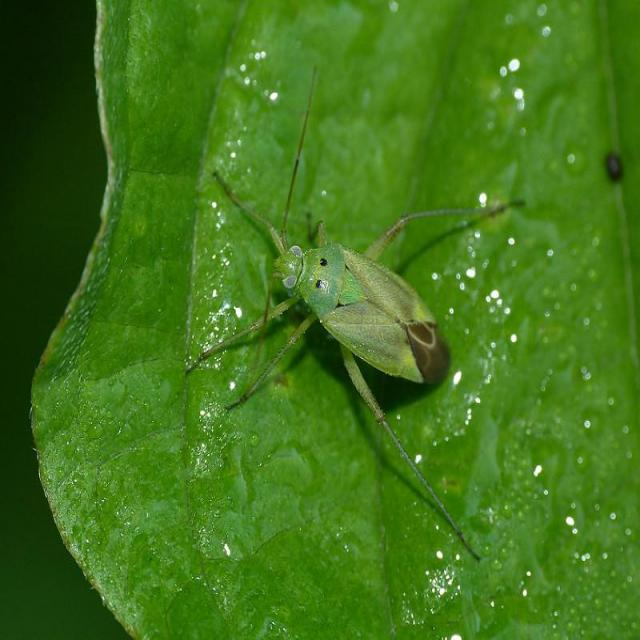Miridae-Adult-: (174, 70, 516, 523)
